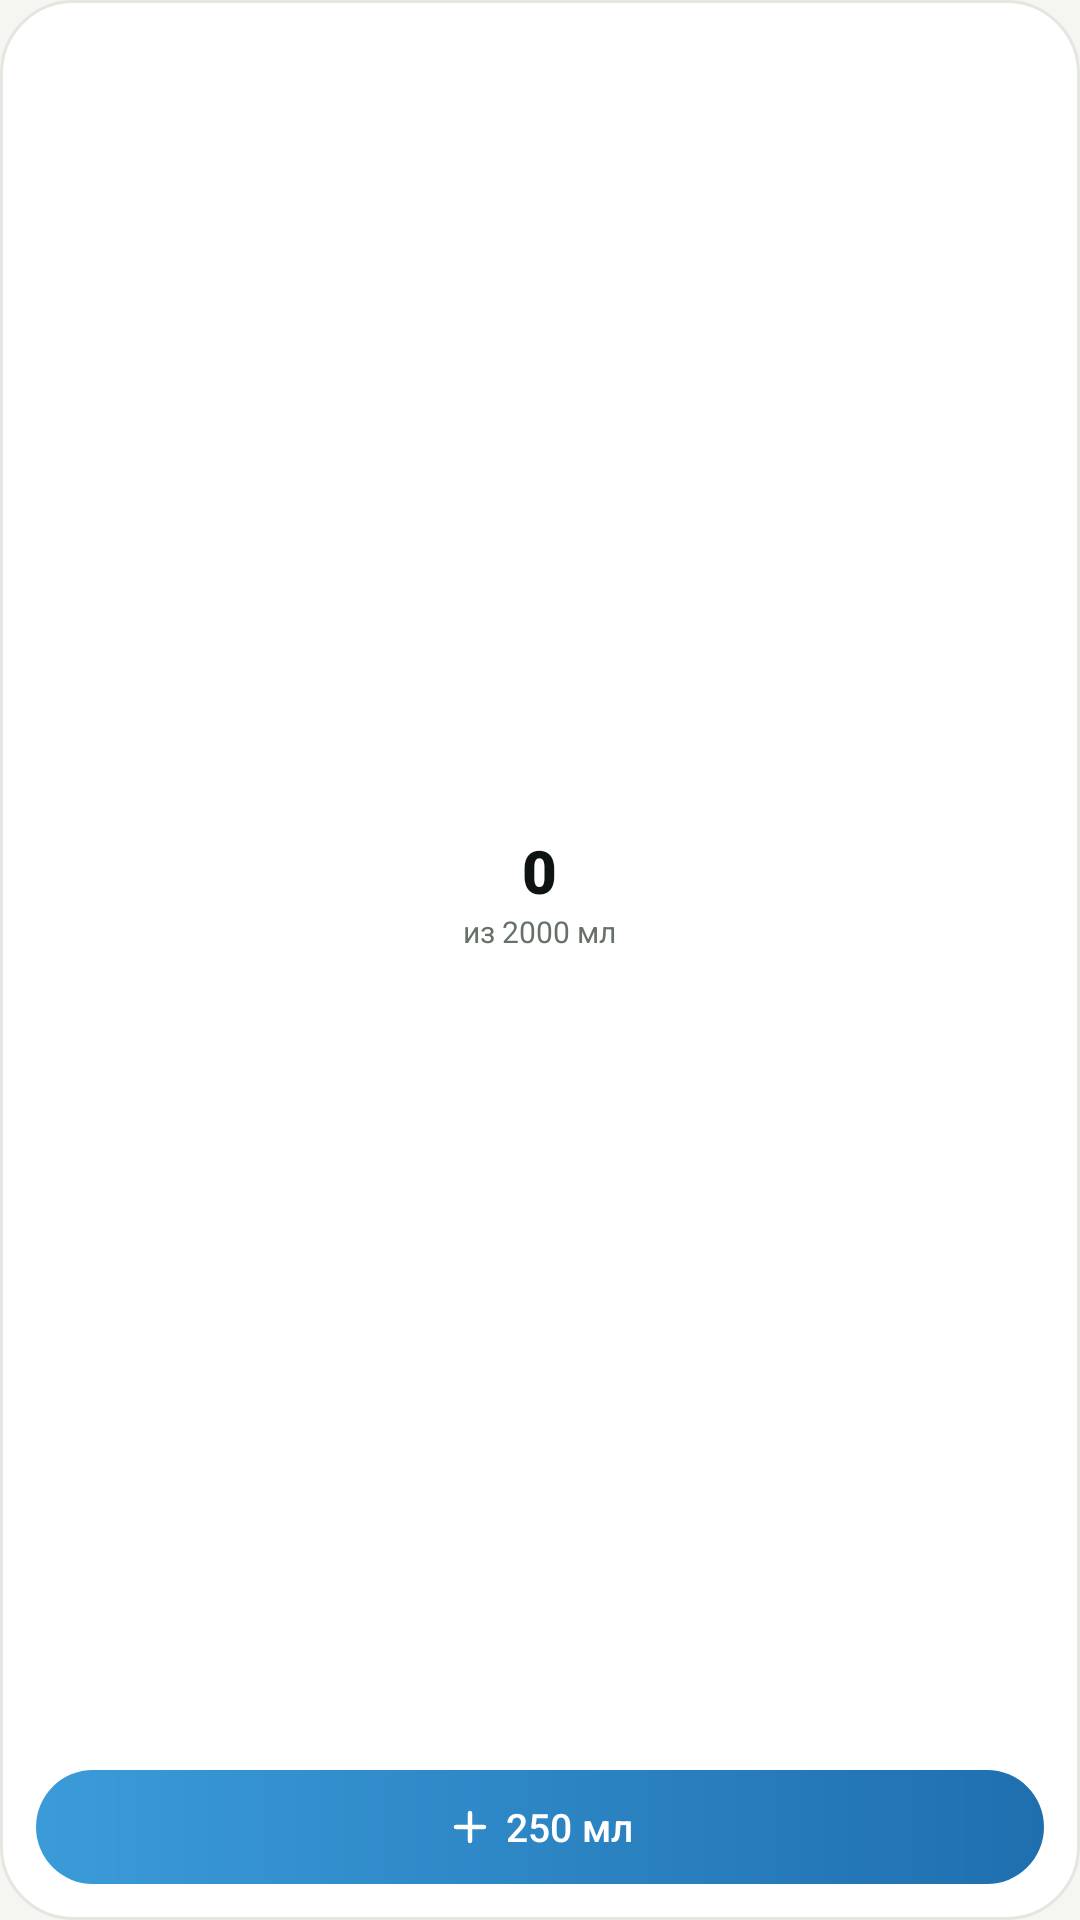

Where to tap for icons on this 1080px x 1920px app screen, as [x,y]:
plus: [470,1827]
